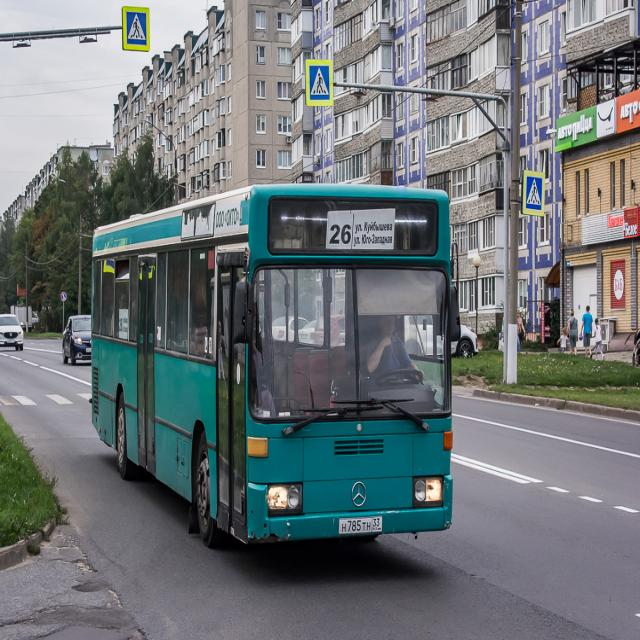number-of-bus: (330, 211, 356, 249)
